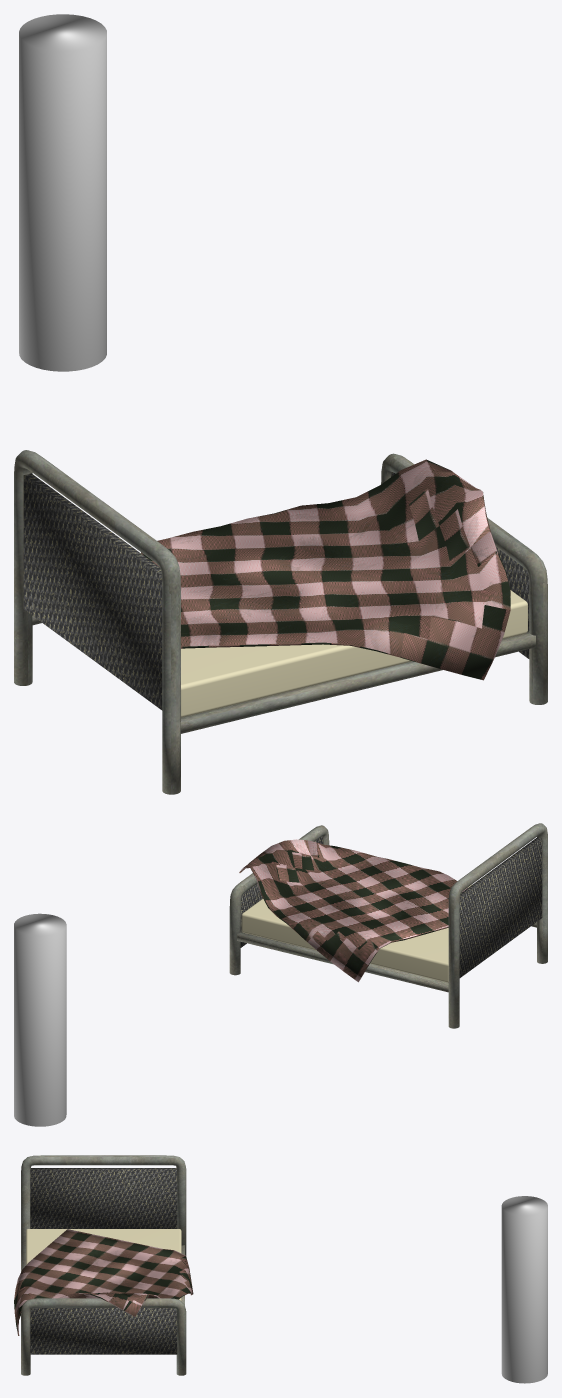
File: bed.glb
3 renders of one model, top to bottom at view 1: azimuth 30°, elevation 25°; view 2: azimuth 150°, elevation 25°; view 3: azimuth 270°, elevation 25°, orthographic. The views are drawn at different scales.
Visible parts, largest first — view 1: Blanket, Ref -noimp, Backboard -col, Frame -col, Matress, Frame-Pole -col, Frame-Front -col, Backboard-Front; view 2: Blanket, Ref -noimp, Backboard -col, Matress, Frame -col, Frame-Pole2 -col, Frame-Front -col, Backboard-Front; view 3: Blanket, Backboard -col, Ref -noimp, Backboard-Front, Frame -col, Frame-Front -col, Matress.
Boxes of the visible parts, x1,y1,x2,y2 form: Blanket: [141, 459, 510, 680]; Ref -noimp: [19, 14, 106, 371]; Backboard -col: [23, 473, 162, 710]; Frame -col: [14, 450, 180, 794]; Matress: [181, 590, 527, 717]; Frame-Pole -col: [180, 631, 535, 733]; Frame-Front -col: [381, 453, 547, 704]; Backboard-Front: [391, 472, 529, 658]; Blanket: [239, 839, 467, 982]; Ref -noimp: [14, 913, 66, 1126]; Backboard -col: [459, 837, 542, 977]; Matress: [241, 884, 471, 982]; Frame -col: [448, 823, 547, 1028]; Frame-Pole2 -col: [237, 931, 448, 992]; Frame-Front -col: [229, 825, 329, 975]; Backboard-Front: [240, 836, 323, 947]; Blanket: [14, 1229, 193, 1335]; Backboard -col: [30, 1168, 177, 1228]; Ref -noimp: [501, 1196, 547, 1383]; Backboard-Front: [30, 1308, 177, 1354]; Frame -col: [21, 1155, 186, 1271]; Frame-Front -col: [21, 1298, 186, 1375]; Matress: [26, 1229, 181, 1300].
Size of the model in its own units: 2.7 by 2 by 5.76.
4 materials, 3 textured.
